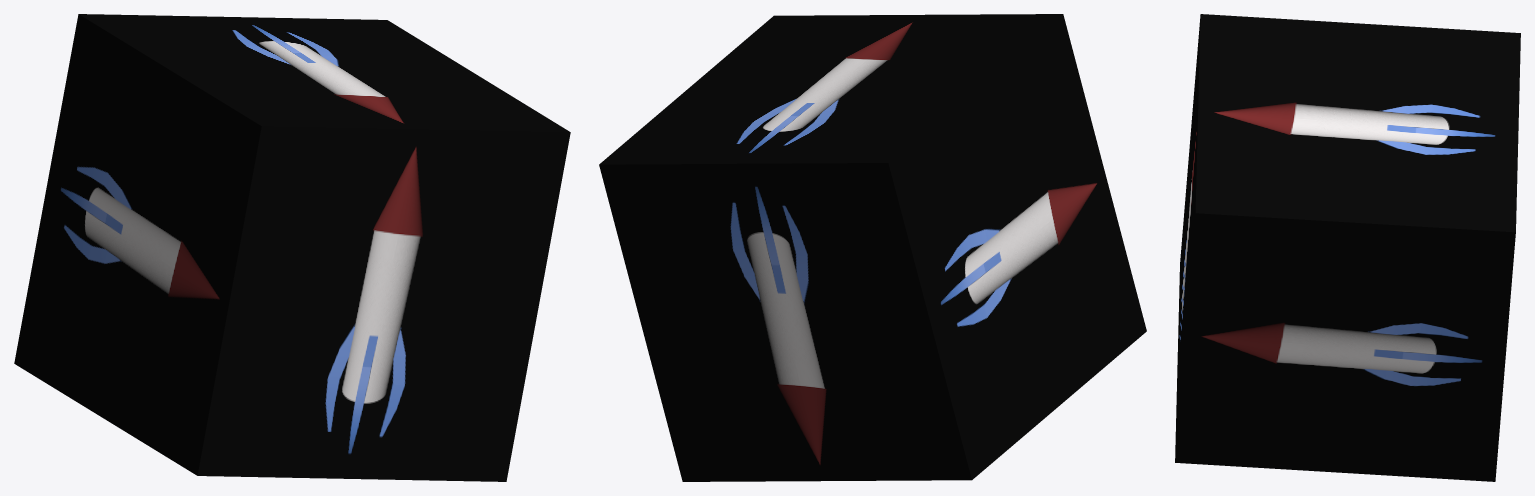
File: item de cohete.fbx
3 views of the same model, side by side, from view 1: azimuth 30°, elevation 25°; view 2: azimuth 150°, elevation 25°; view 3: azimuth 270°, elevation 25° (orthographic). The views are drawn at different scales.
Parts seen in each view (by area): view 1: Cubo; view 2: Cubo; view 3: Cubo.
Boxes of the visible parts, left/top/right/bottom form: Cubo: left=14, top=14, right=570, bottom=481; Cubo: left=599, top=14, right=1146, bottom=481; Cubo: left=1175, top=14, right=1520, bottom=481.
Size of the model in its own units: 240 by 254 by 215.
1 material, 1 textured.
